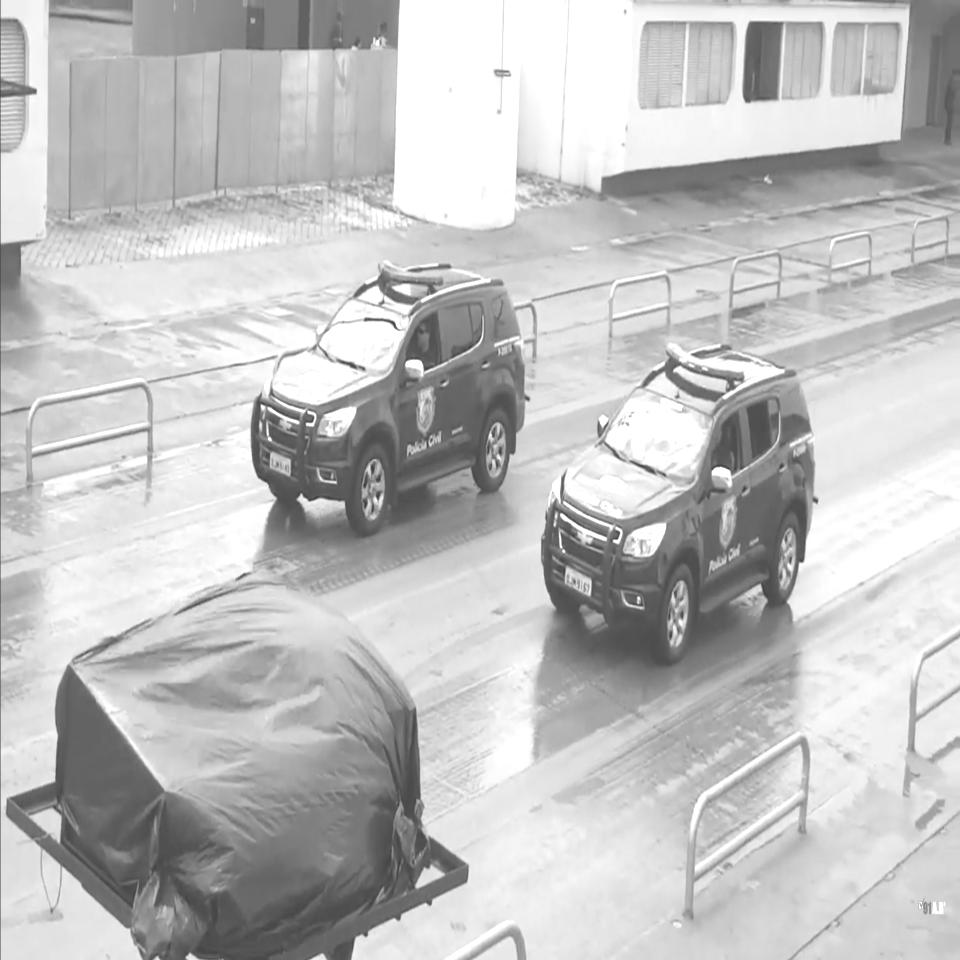viatura: (540, 339, 820, 668), (252, 260, 533, 537)
